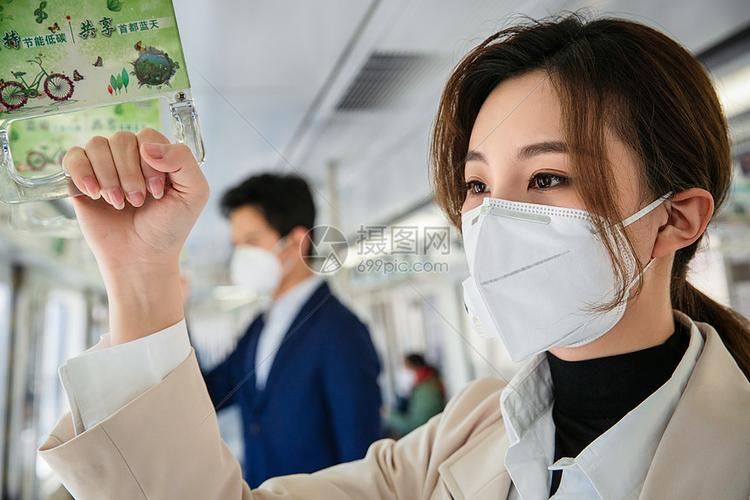mask: (447, 71, 665, 356)
